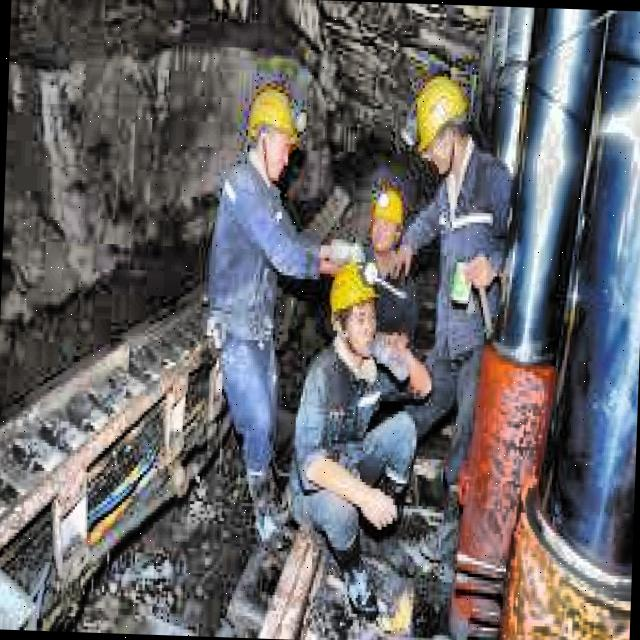helmet: (406, 68, 476, 178), (242, 82, 298, 184), (328, 257, 378, 350), (369, 178, 406, 264)
